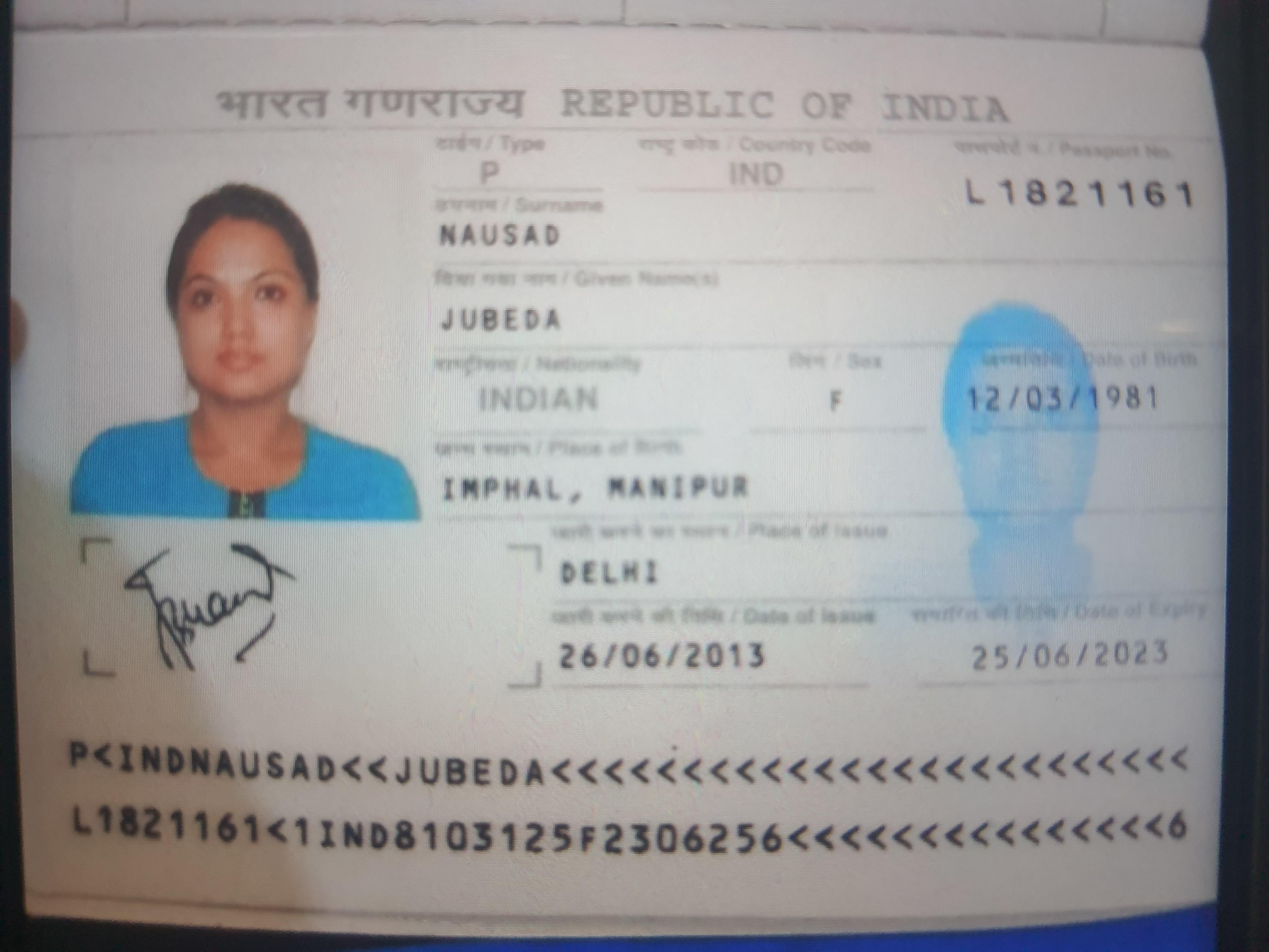DOB: (705, 709, 770, 875)
Surname: (919, 314, 995, 442)
country_code: (1014, 532, 1061, 595)
date_of_expiry: (354, 714, 430, 881)
date_of_issue: (351, 410, 425, 573)
details: (127, 39, 299, 911)
name: (806, 321, 873, 427)
nationality: (712, 347, 769, 464)
passport_no: (961, 699, 1041, 909)
photo: (571, 50, 1058, 319)
place_of_birth: (579, 333, 650, 576)
place_of_issue: (473, 416, 531, 496)
sex: (702, 610, 762, 644)
sign: (382, 86, 543, 216)
type: (1014, 349, 1059, 385)
